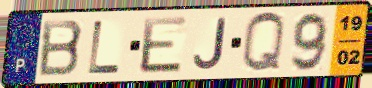9: (291, 10, 330, 72)
B: (36, 18, 86, 79)
E: (138, 15, 189, 76)
J: (191, 16, 229, 72)
L: (85, 19, 124, 76)
Q: (239, 10, 287, 75)
